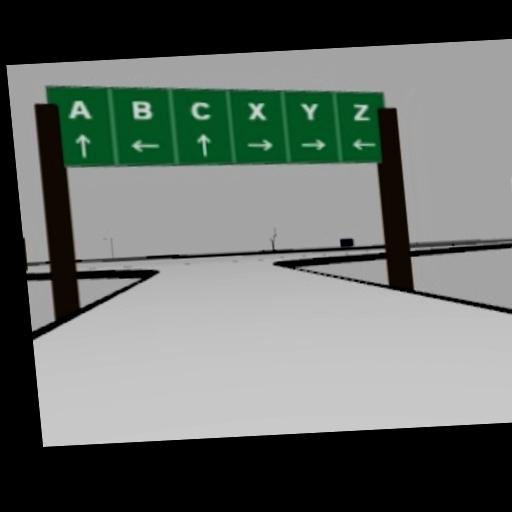A: (66, 99, 92, 120)
B: (130, 99, 152, 120)
C: (189, 100, 211, 121)
Left: (128, 137, 161, 153), (349, 136, 376, 150)
Right: (245, 139, 273, 152), (300, 138, 327, 151)
Straight: (195, 132, 212, 157), (73, 133, 90, 158)
X: (247, 101, 267, 119)
Y: (300, 101, 321, 121)
Z: (351, 103, 370, 121)
